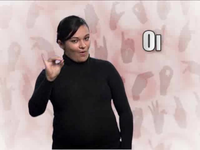oi: (39, 50, 66, 82)
